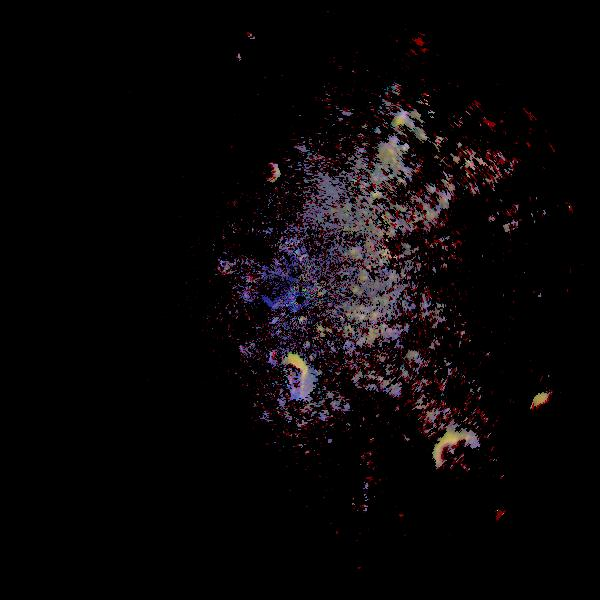roost: (431, 431, 491, 491), (522, 387, 582, 447), (402, 185, 462, 245), (259, 348, 316, 405), (490, 503, 535, 548), (255, 157, 282, 184)
